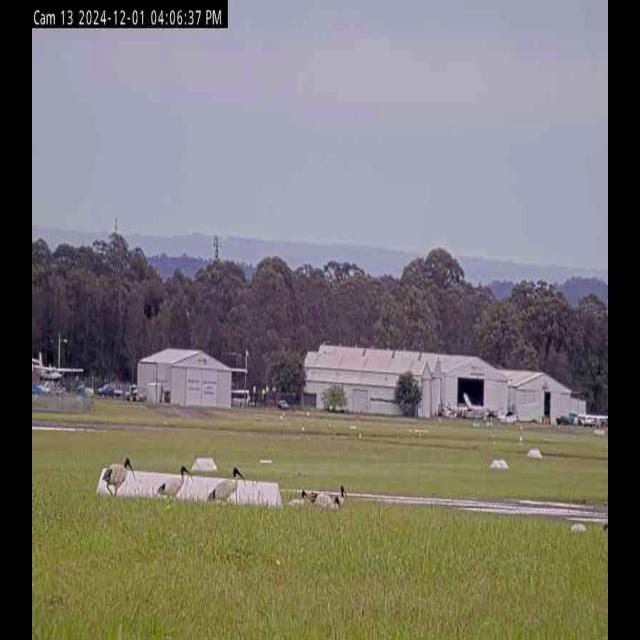Birds-Ibis: (205, 463, 248, 508), (101, 452, 137, 500), (154, 461, 194, 504), (308, 486, 342, 520), (287, 486, 311, 512), (332, 480, 349, 513)
